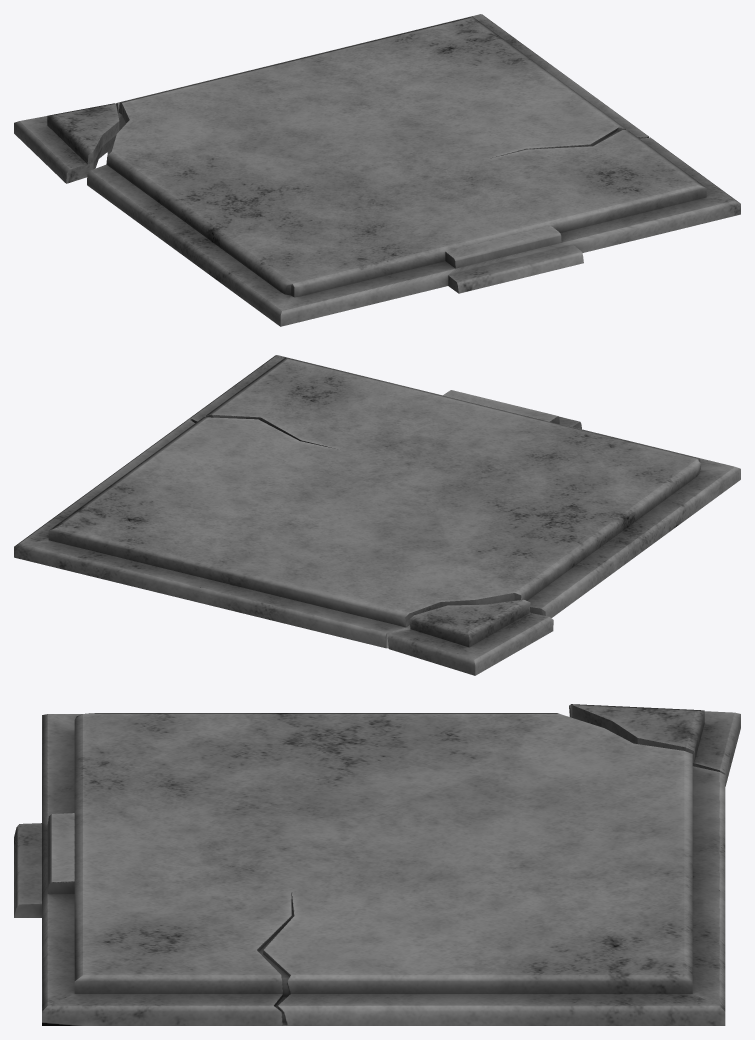
The model's file is Shrine_Base_01.fbx.
The picture shows the model from 3 angles, top to bottom: view 1: azimuth 30°, elevation 25°; view 2: azimuth 150°, elevation 25°; view 3: azimuth 270°, elevation 25°; orthographic projection. The views are drawn at different scales.
Parts seen in each view (by area): view 1: polySurface1; view 2: polySurface1; view 3: polySurface1.
Boxes of the visible parts, x1,y1,x2,y2 form: polySurface1: (14,14,740,326); polySurface1: (14,355,740,675); polySurface1: (14,704,740,1025).
Size of the model in its own units: 30.14 by 1.52 by 30.28.
1 material, 1 textured.
